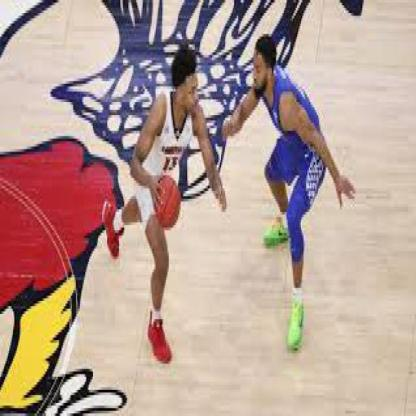basketball: (152, 176, 180, 230)
